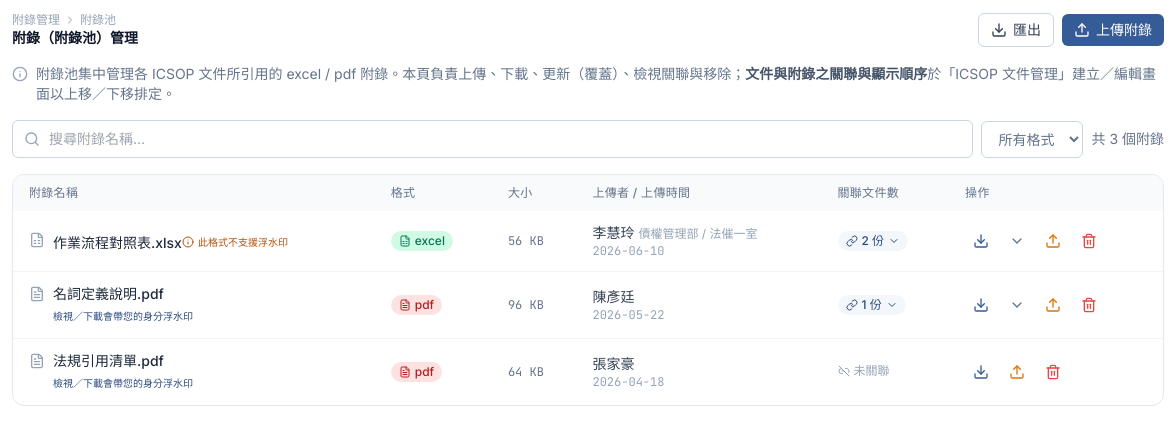
Test: AppendixManagementPage — 附錄（附錄池）管理（F039，移植 prototype 24） › AC-16 格式篩選 excel → 僅顯示 xlsx/xls；pdf → 僅顯示 pdf
Expected: the text "作業流程對照表.xlsx" is shown, [53,234,182,250]
Select "excel" in the dropdown named "格式篩選" at (1032, 139), box [982,120,1084,158]
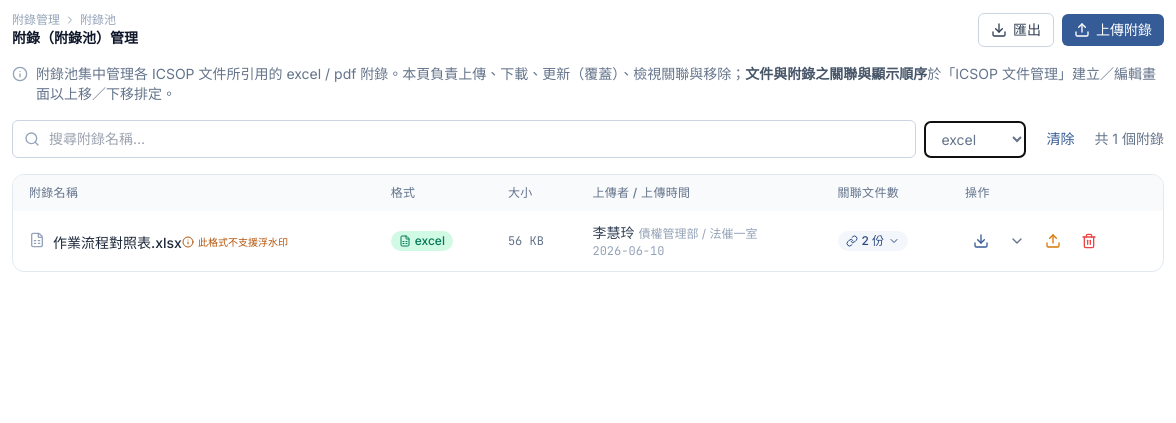
Expected: the text "作業流程對照表.xlsx" is shown, [53,234,182,250]
Expected: the text "名詞定義說明.pdf" is gone
Select "pdf" in the dropdown named "格式篩選" at (975, 139), box [924,120,1026,158]
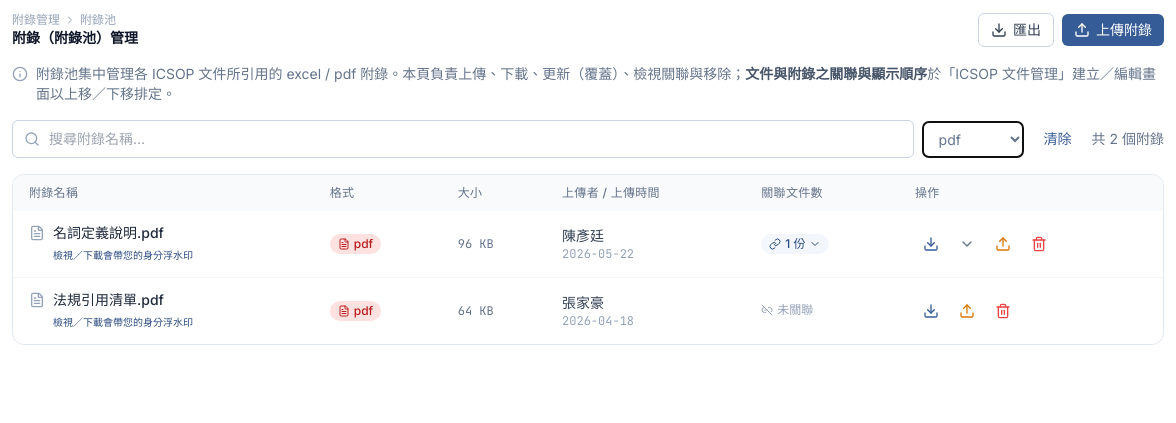
Expected: the text "作業流程對照表.xlsx" is gone
Expected: the text "名詞定義說明.pdf" is shown, [53,224,164,241]
